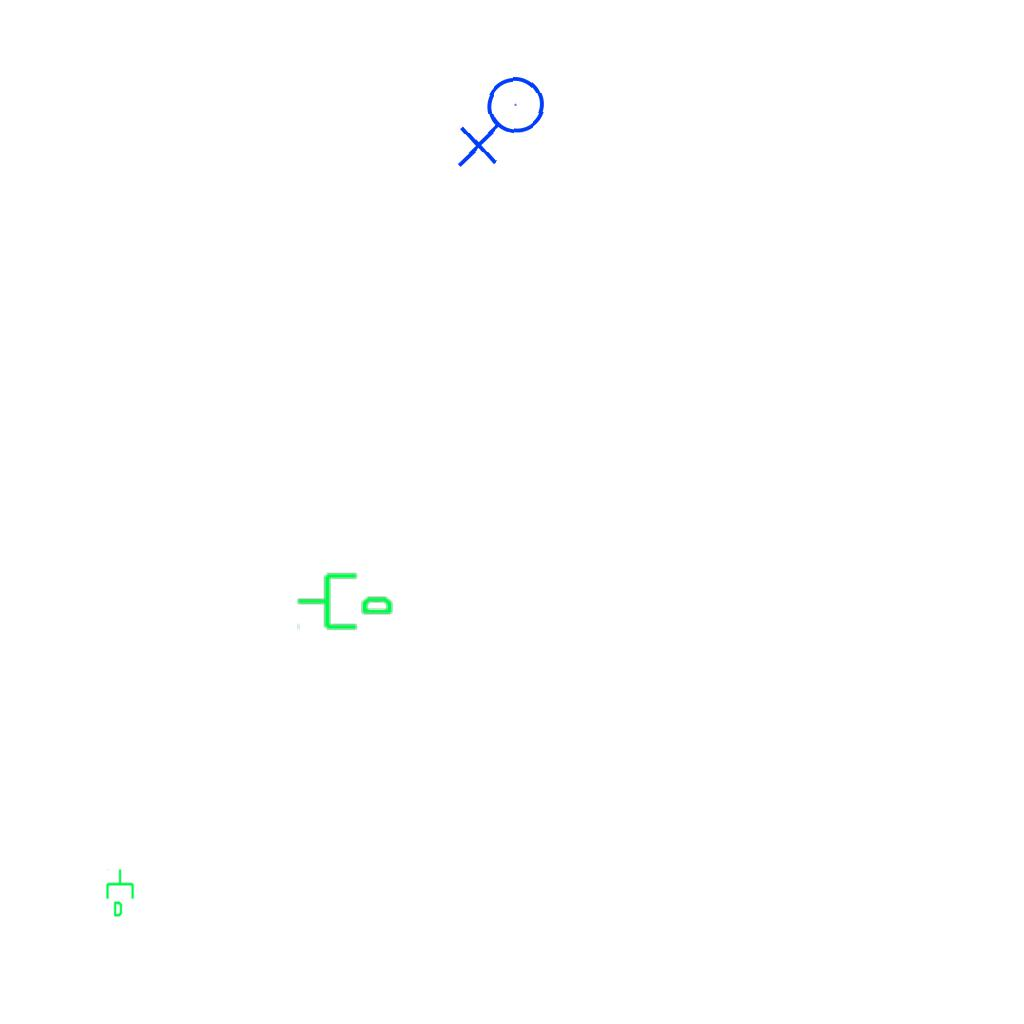Datenanschluss_einfach: (295, 565, 395, 634), (104, 868, 138, 918)
Elektroanschluss_allgemein_230V_Geraeteanschlussdose_230V: (452, 73, 557, 173)
